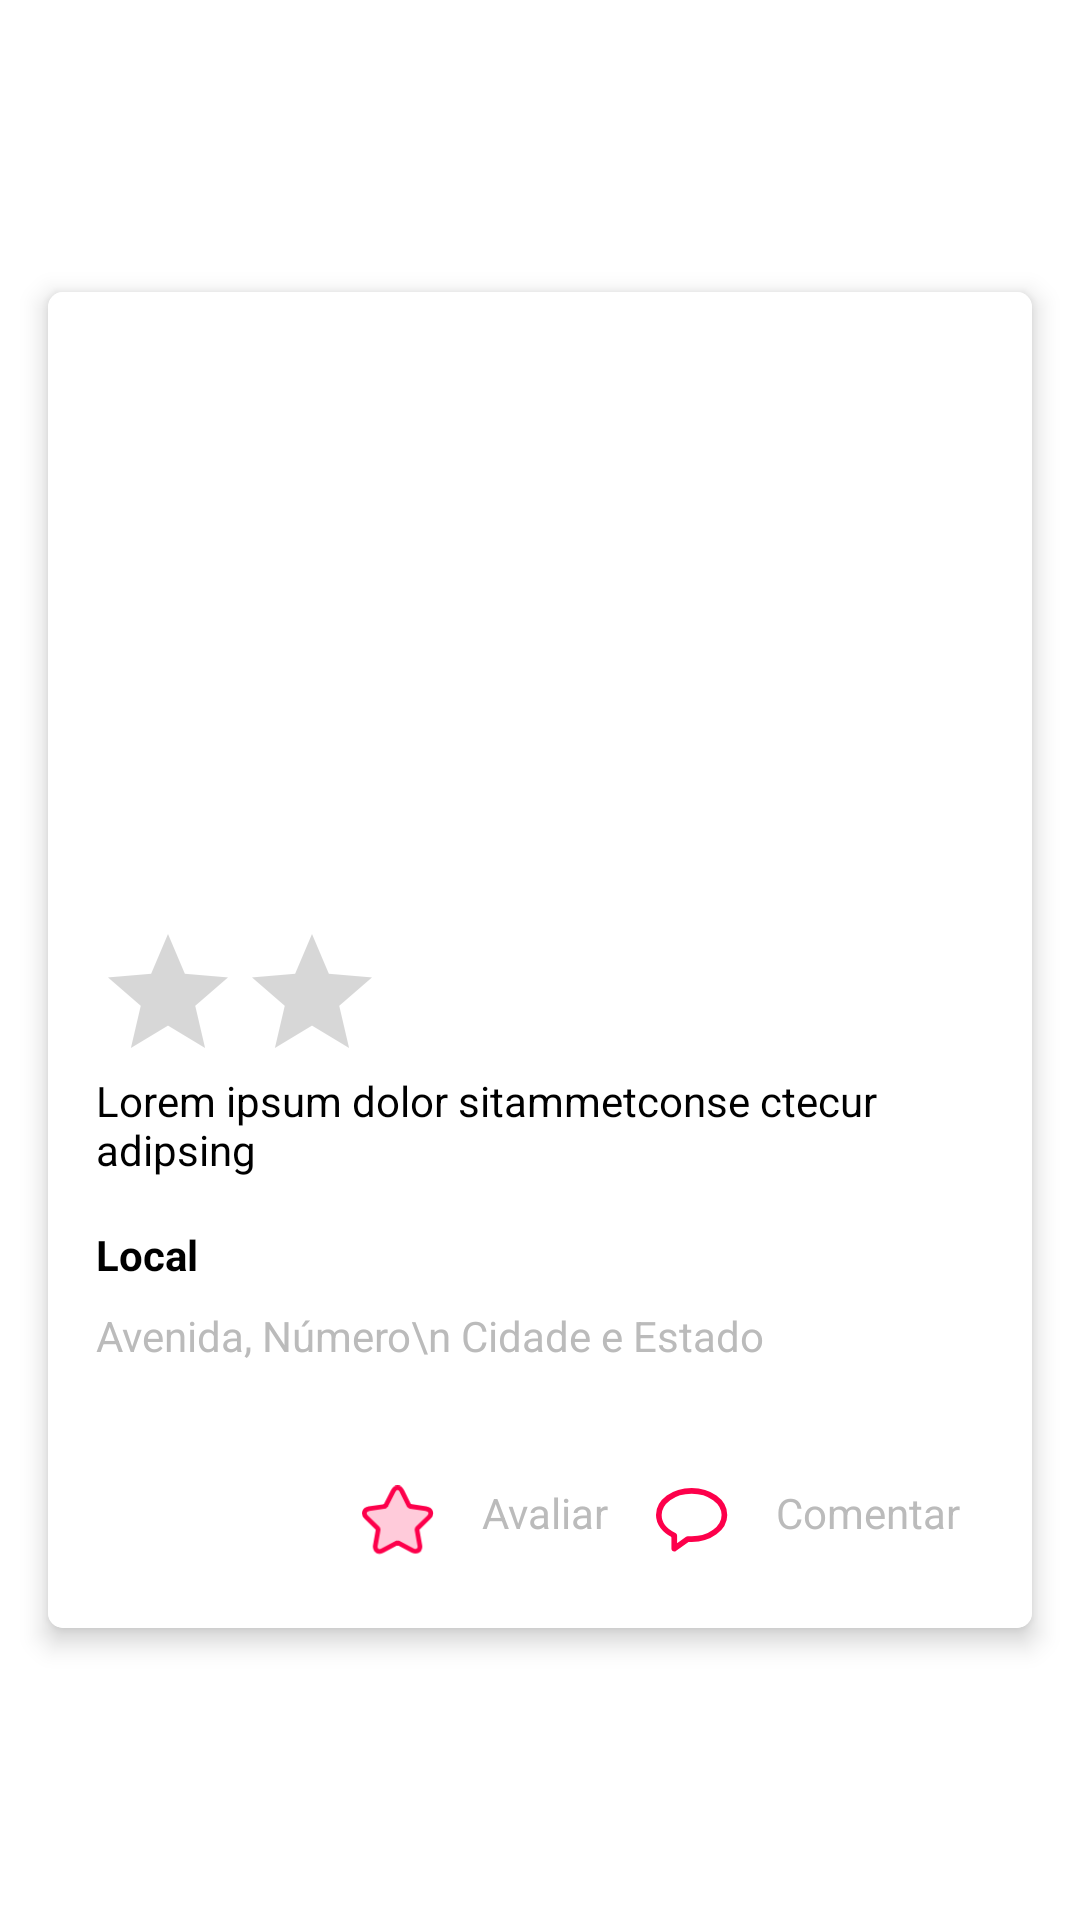

Where icons sit on this 1080px×1920px app screen, as (x1, y1, x2, y2):
comment: (656, 1488, 728, 1552)
star: (362, 1485, 434, 1555)
